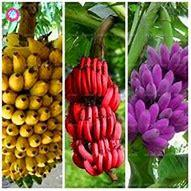banana: (0, 39, 57, 175), (64, 64, 120, 175)
